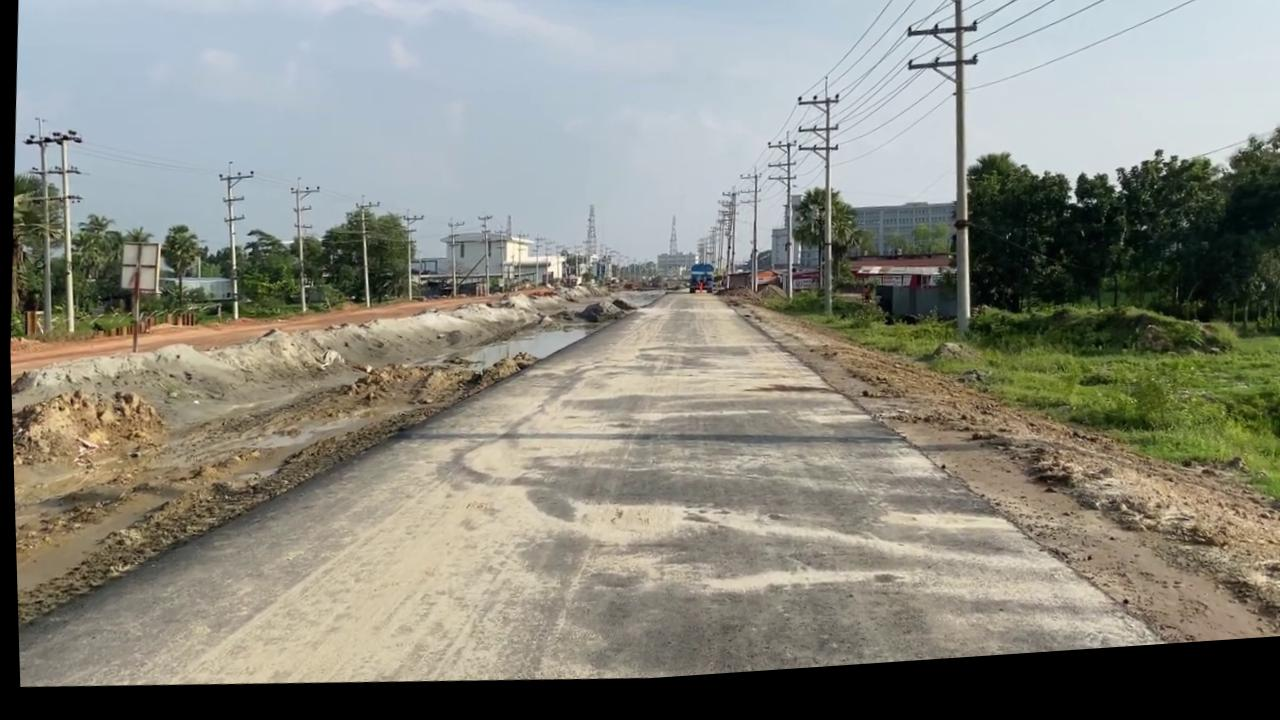Garbage: (7, 257, 645, 667)
Muddy road: (7, 266, 540, 713)
Pole: (885, 0, 991, 355), (784, 86, 845, 328), (37, 127, 87, 336), (757, 140, 801, 313), (209, 161, 255, 323), (282, 180, 320, 318), (347, 201, 380, 314), (395, 214, 424, 307)
Rickshaw: (210, 250, 1280, 709)
Sidewalk: (426, 308, 596, 402)
Traffic-sign: (4, 168, 69, 337), (784, 192, 863, 309)
Tree: (684, 271, 713, 304)
